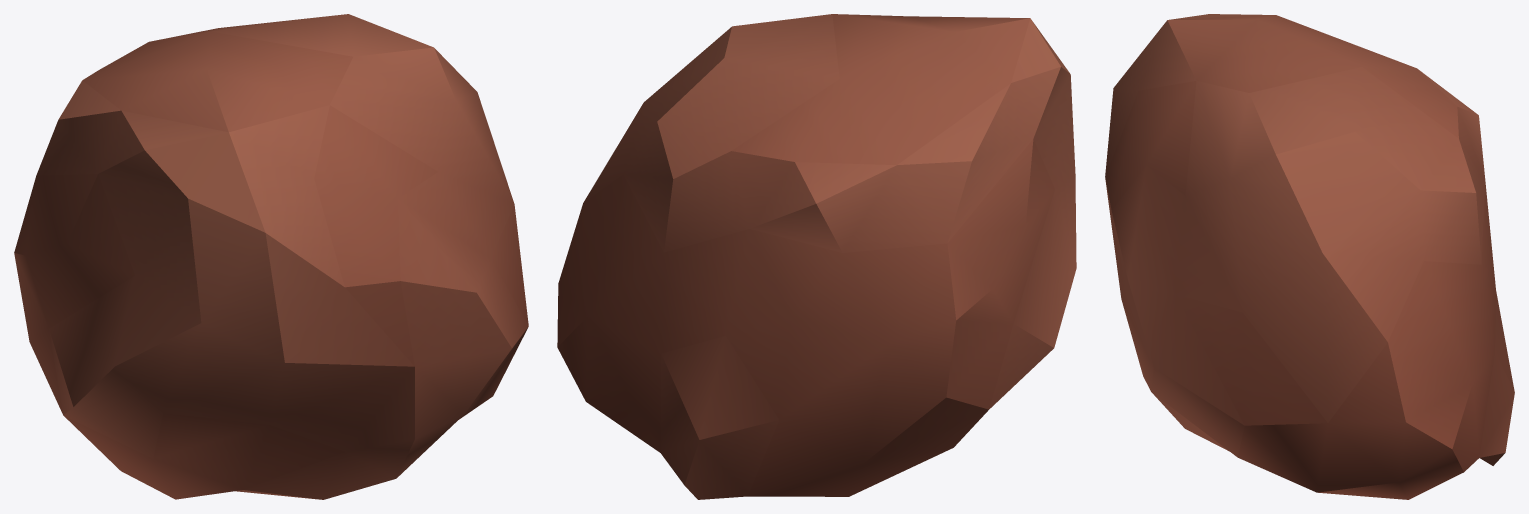
File: Rock_3_J_Color2.fbx
3 views of the same model, side by side, from view 1: azimuth 30°, elevation 25°; view 2: azimuth 150°, elevation 25°; view 3: azimuth 270°, elevation 25° (orthographic). The views are drawn at different scales.
Parts seen in each view (by area): view 1: Rock_3_J_Color2; view 2: Rock_3_J_Color2; view 3: Rock_3_J_Color2.
Part boxes in pixels (x1=…): Rock_3_J_Color2: x1=14, y1=14, x2=528, y2=499; Rock_3_J_Color2: x1=557, y1=14, x2=1076, y2=499; Rock_3_J_Color2: x1=1105, y1=14, x2=1514, y2=499.
Size of the model in its own units: 1.97 by 1.9 by 1.74.
